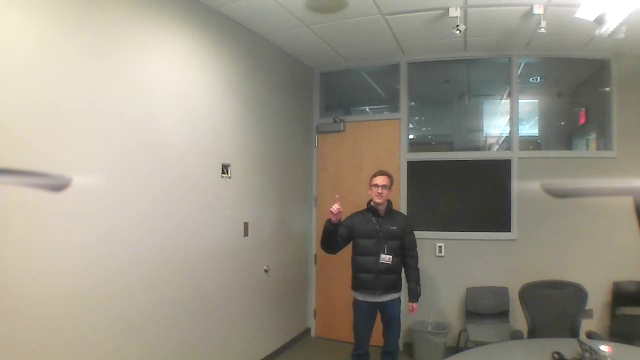up: (327, 192, 346, 220)
